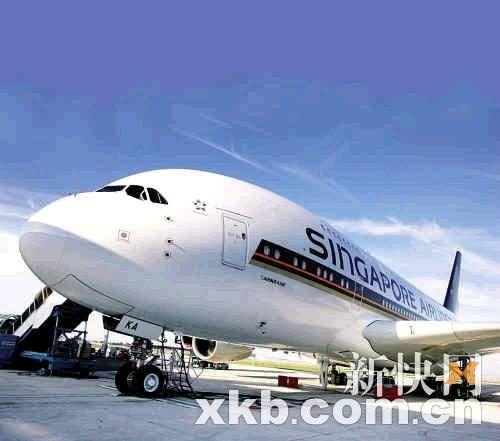airplane: (7, 162, 500, 394)
